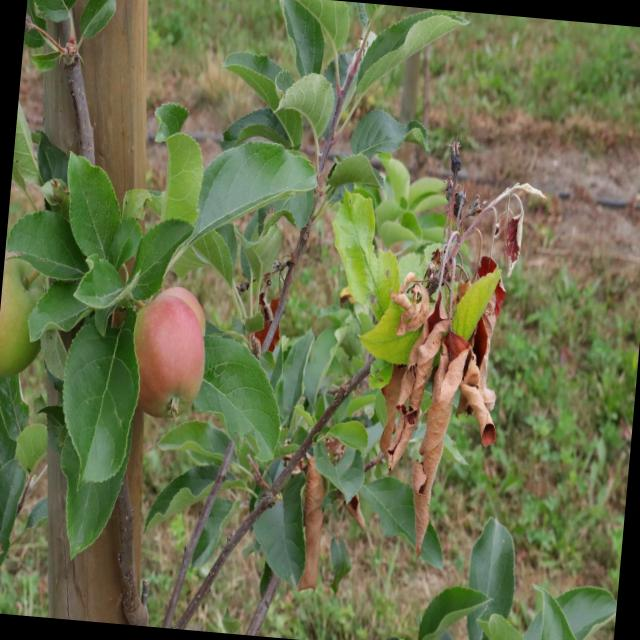-FireBlight-: (343, 246, 509, 564), (288, 448, 336, 594)
